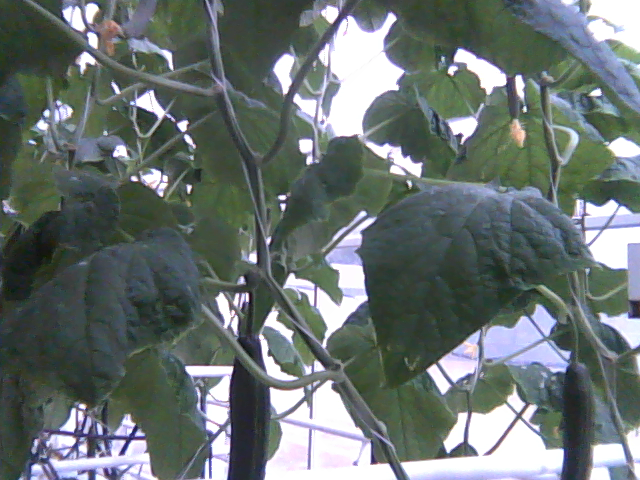concombre: (226, 332, 271, 480), (557, 358, 595, 480)
